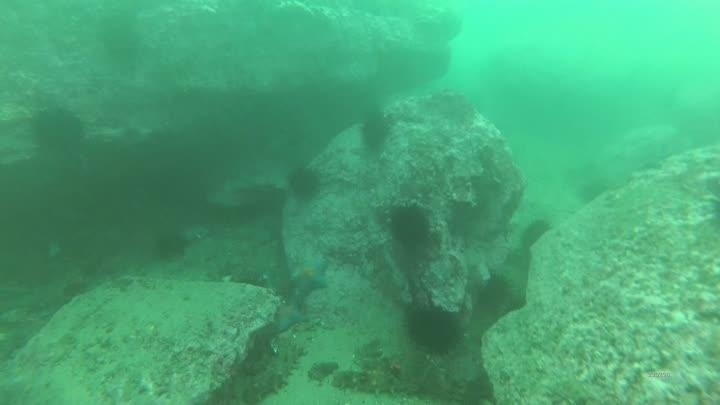echinus: (403, 301, 464, 357), (29, 104, 86, 157), (386, 201, 433, 250), (423, 87, 477, 127), (474, 271, 515, 316), (285, 163, 324, 203), (357, 110, 393, 153), (151, 229, 191, 264), (518, 217, 553, 252), (575, 177, 612, 207), (59, 276, 92, 305)
holothurian: (242, 341, 306, 403), (327, 364, 409, 399)
starfish: (287, 252, 332, 296), (270, 299, 309, 334)
